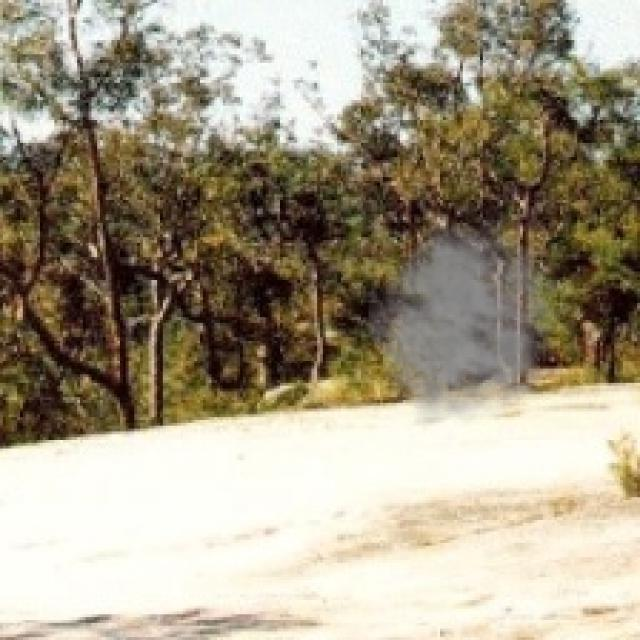smoke: (366, 208, 574, 426)
